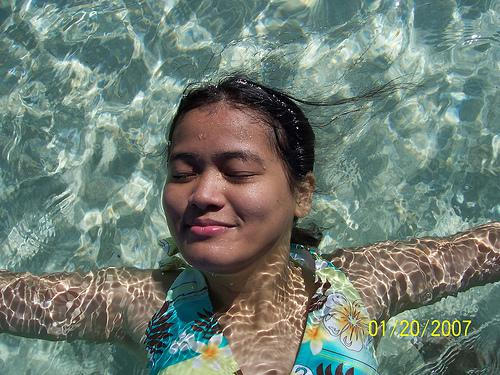human: (0, 63, 500, 374)
